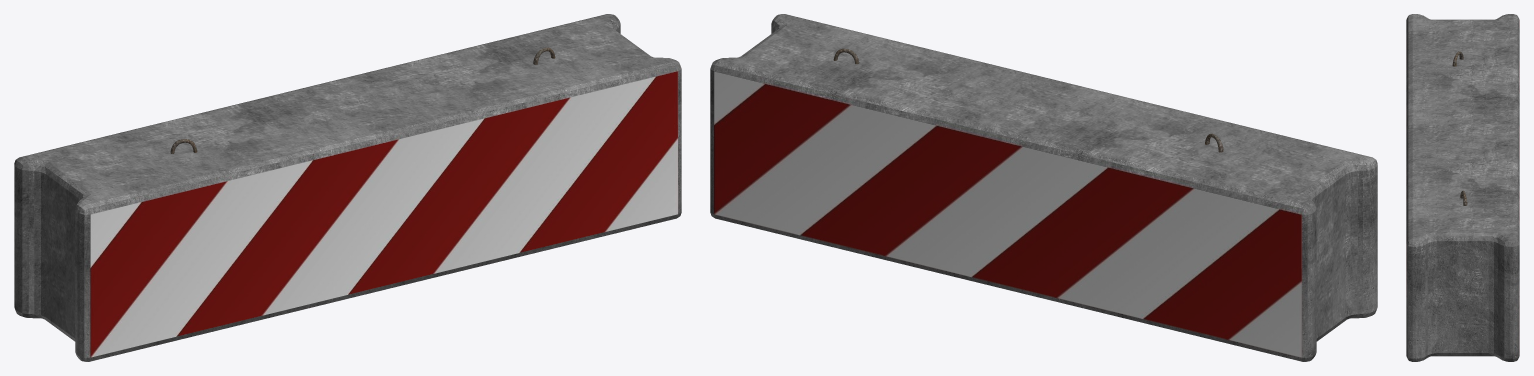
File: BlockStatic.fbx
3 renders of one model, left to right at view 1: azimuth 30°, elevation 25°; view 2: azimuth 150°, elevation 25°; view 3: azimuth 270°, elevation 25°, orthographic. The views are drawn at different scales.
Visible parts, largest first — view 1: BlockStatic; view 2: BlockStatic; view 3: BlockStatic.
Part boxes in pixels (x1=…): BlockStatic: x1=14, y1=14, x2=681, y2=361; BlockStatic: x1=710, y1=14, x2=1377, y2=361; BlockStatic: x1=1406, y1=14, x2=1519, y2=361.
Bounding box in the file's own units: 240 × 65.02 × 50.
1 material, 1 textured.
